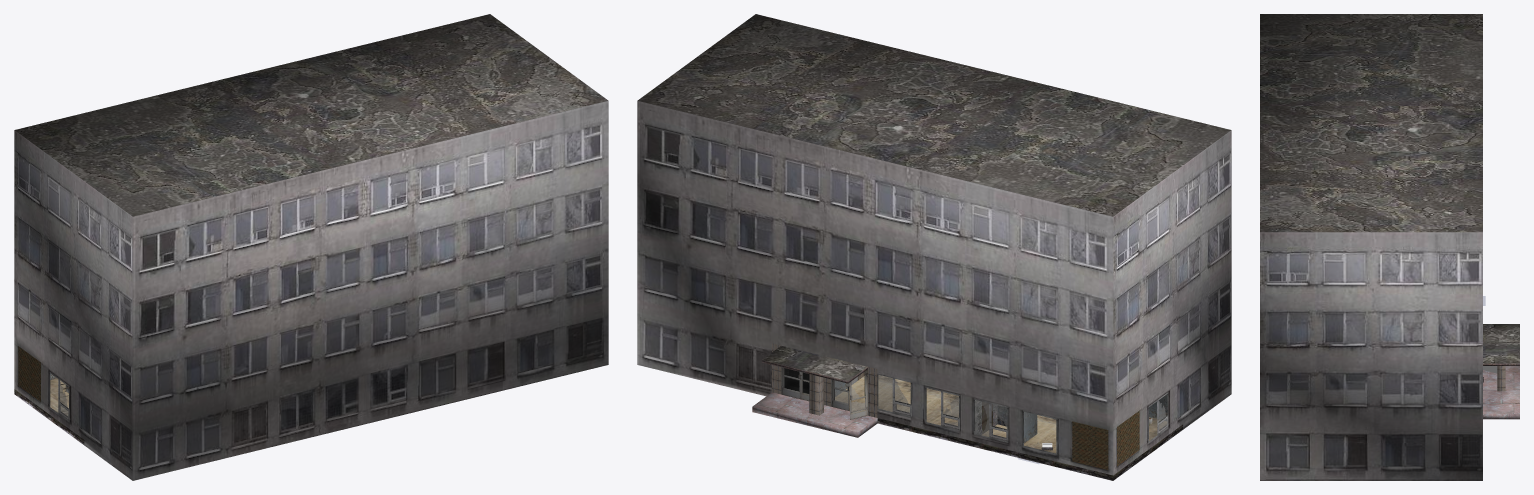
File: city_block.glb
The picture shows the model from 3 angles, left to right: view 1: azimuth 30°, elevation 25°; view 2: azimuth 150°, elevation 25°; view 3: azimuth 270°, elevation 25°; orthographic projection. The views are drawn at different scales.
Parts seen in each view (by area): view 1: Material3 (×4); view 2: Material3 (×7), Material2 (×5), Material4; view 3: Material3 (×2), Material2.
Boxes of the visible parts, <box> form: Material3 (×4): <box>14,14,608,480</box>; Material3 (×7): <box>637,14,1231,480</box>; Material2 (×5): <box>752,367,1167,443</box>; Material4: <box>835,375,1167,453</box>; Material3 (×2): <box>1260,14,1519,480</box>; Material2: <box>1483,366,1519,419</box>.
Bounding box in the file's own units: 1023 × 543 × 514.
46 materials, 38 textured.
